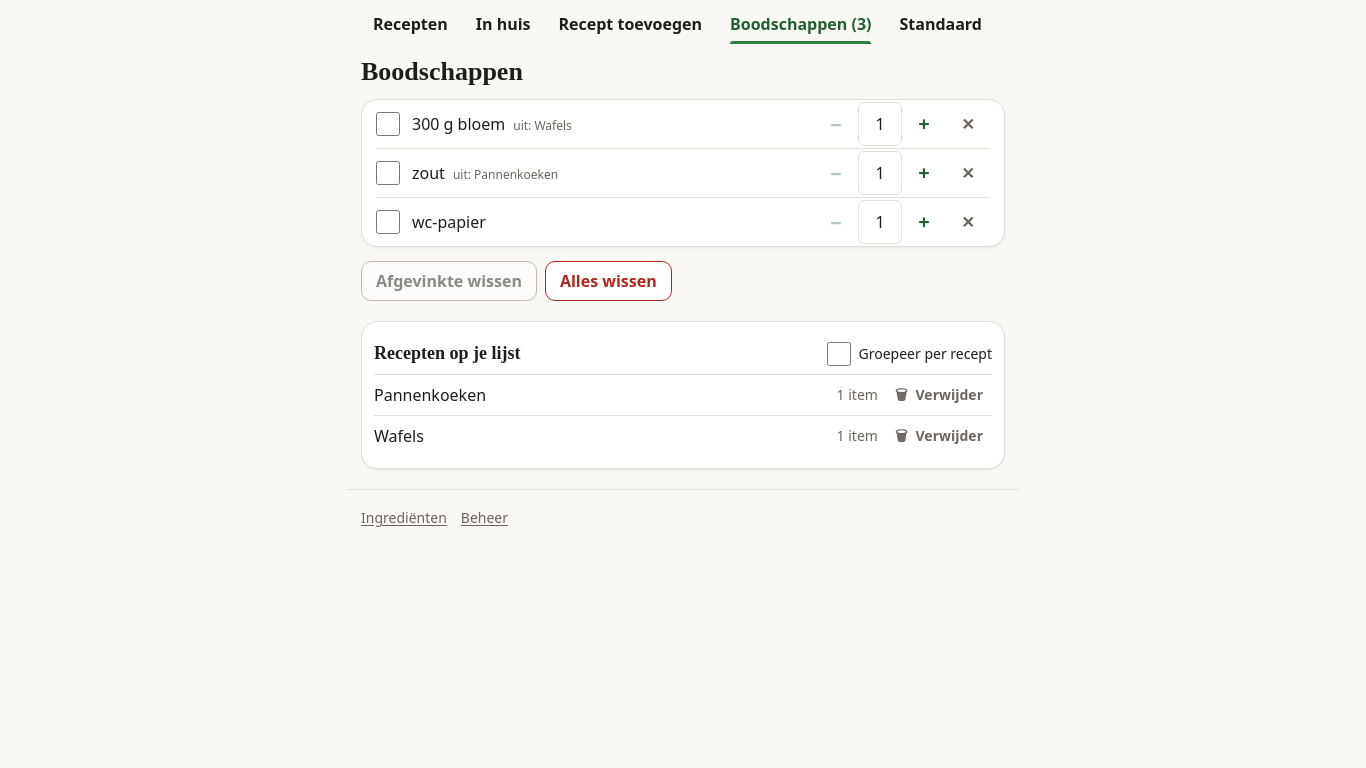
Test: ShoppingListView › wist alles alleen na bevestiging in het venster
Click the button "Alles wissen" at [608, 281], box 545,261 -> 672,301
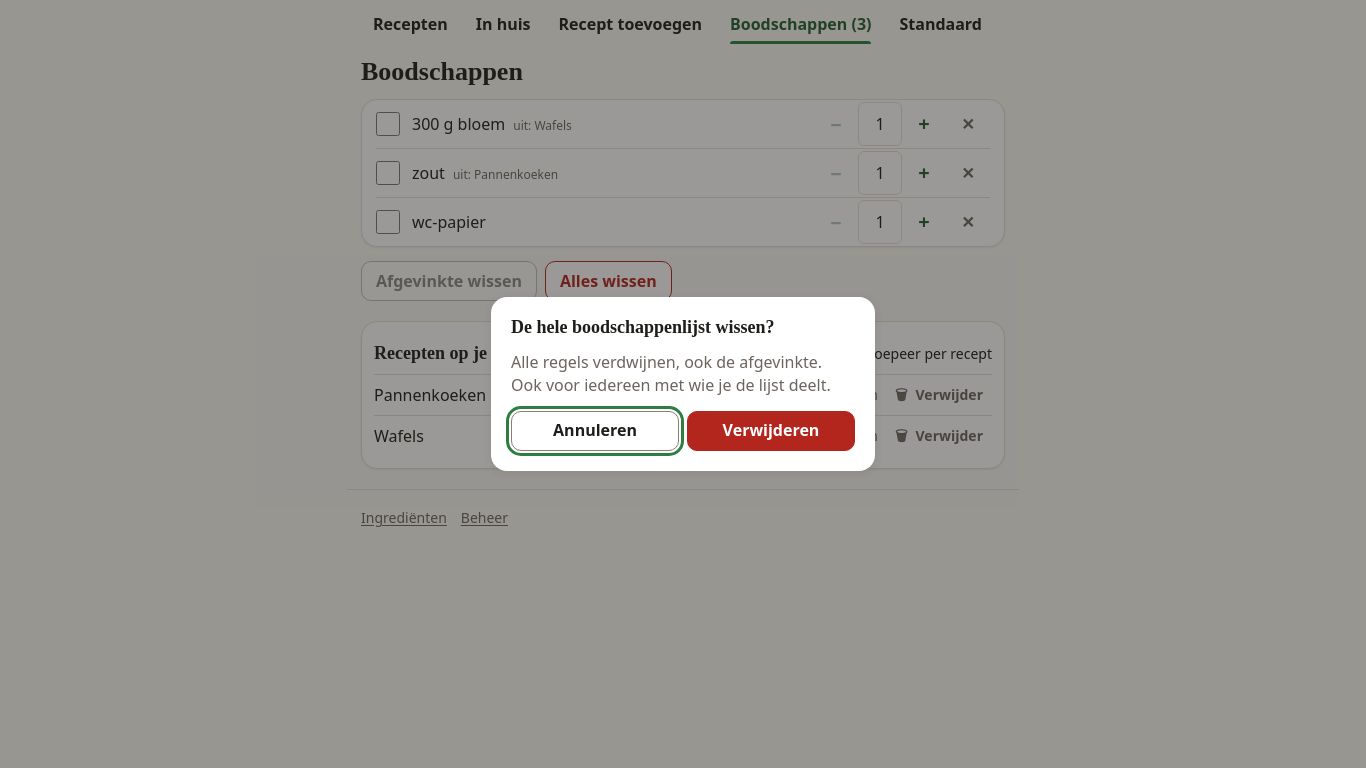
expect the heading "De hele boodschappenlijst wissen?" is shown: met, box 511,317 -> 774,337
Click the button with class "cancel" at [595, 431], box 511,411 -> 679,451
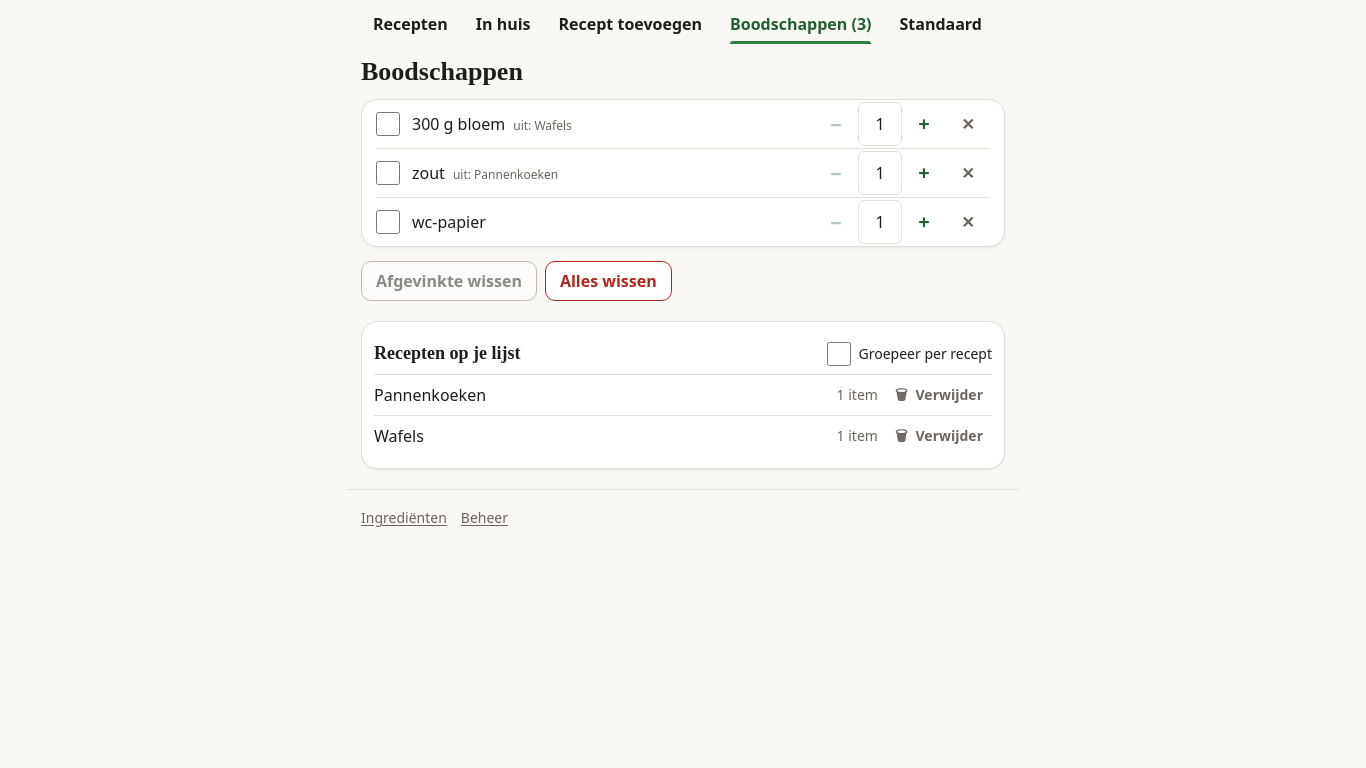
Click the button "Alles wissen" at [608, 281], box 545,261 -> 672,301
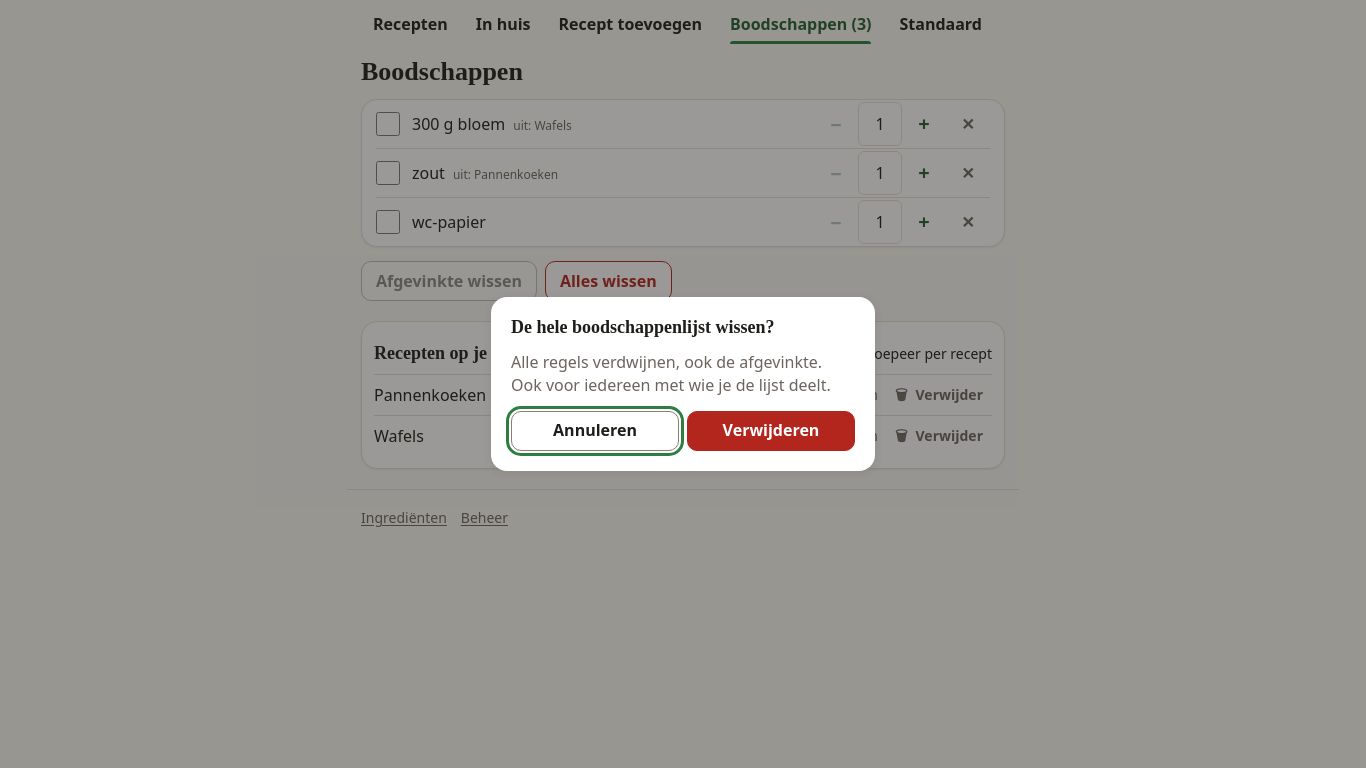
Click the button with class "confirm" at [771, 431], box 687,411 -> 855,451
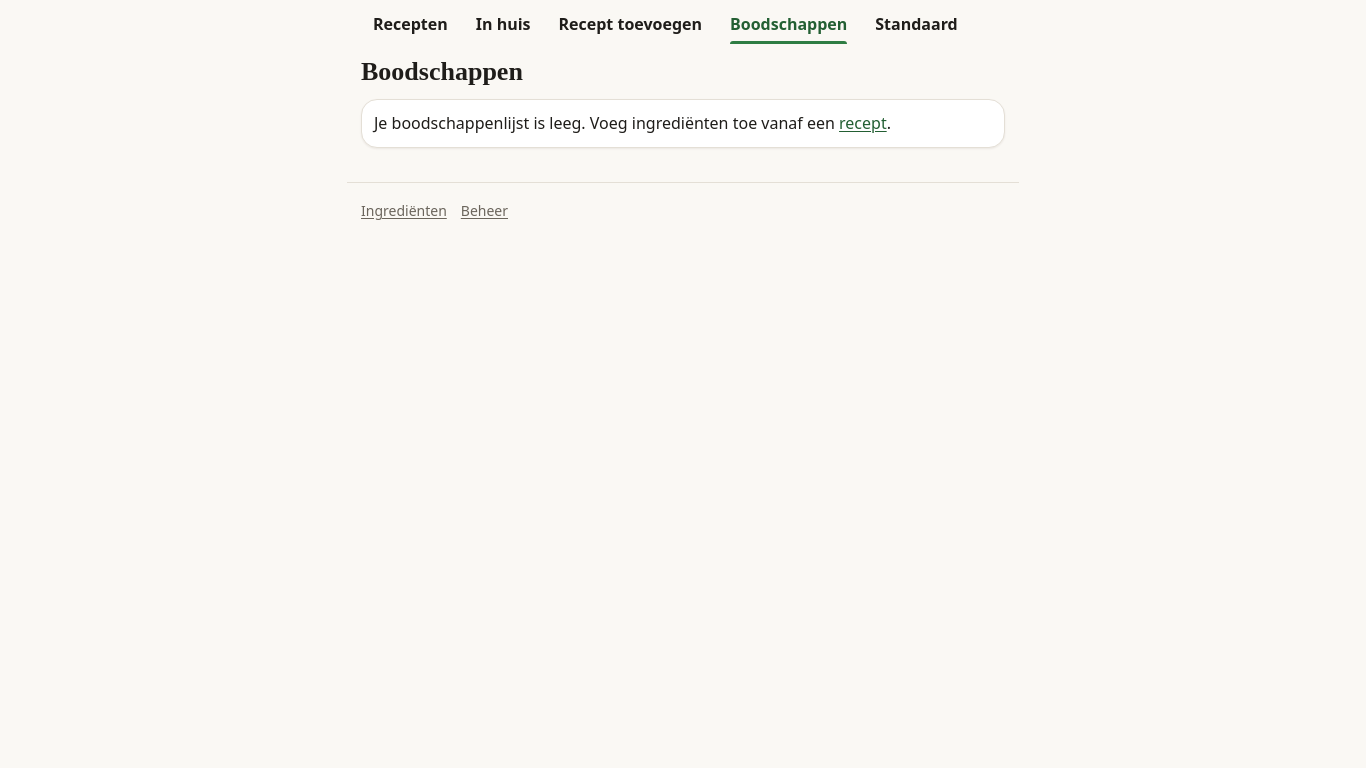
expect the element with class "empty" is shown: met, box 361,99 -> 1005,148
